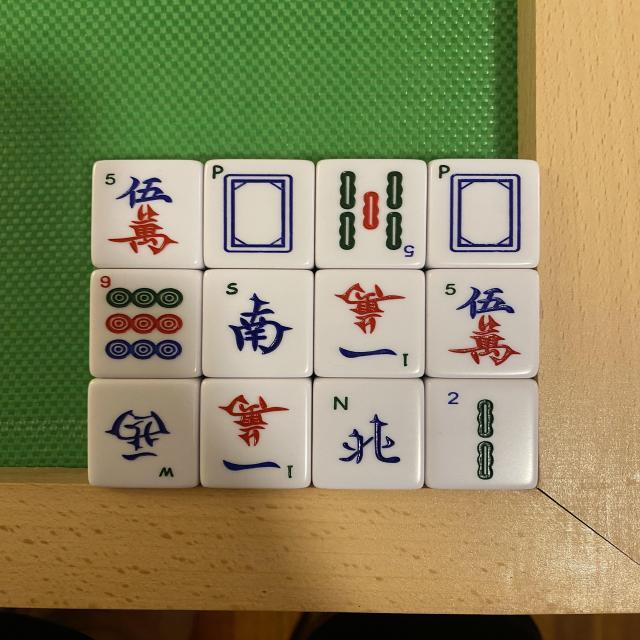hdw: (206, 160, 315, 268), (424, 164, 534, 270)
hwn: (312, 380, 422, 492)
hws: (206, 274, 309, 374)
hww: (89, 380, 199, 488)
sb2: (430, 382, 532, 486)
sb5: (316, 160, 428, 268)
sc1: (314, 272, 424, 379), (207, 384, 305, 484)
sc5: (427, 266, 541, 376), (94, 162, 203, 268)
sd9: (95, 273, 202, 380)
